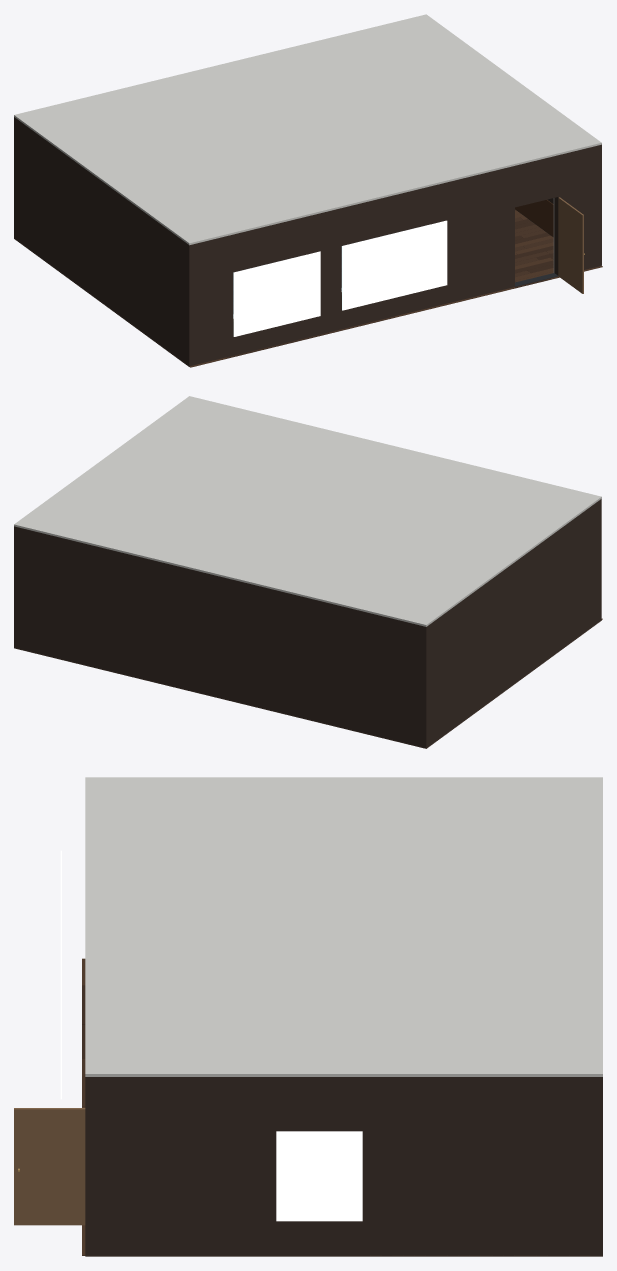
The model's file is bar.glb.
The picture shows the model from 3 angles, top to bottom: view 1: azimuth 30°, elevation 25°; view 2: azimuth 150°, elevation 25°; view 3: azimuth 270°, elevation 25°; orthographic projection. The views are drawn at different scales.
Parts seen in each view (by area): view 1: bar_room; view 2: bar_room; view 3: bar_room.
Part boxes in pixels (box(x1,y1,x2,y2)): bar_room: box(14, 14, 602, 367); bar_room: box(14, 396, 602, 748); bar_room: box(14, 777, 602, 1256).
Bounding box in the file's own units: 11.8 × 3.27 × 9.56.
